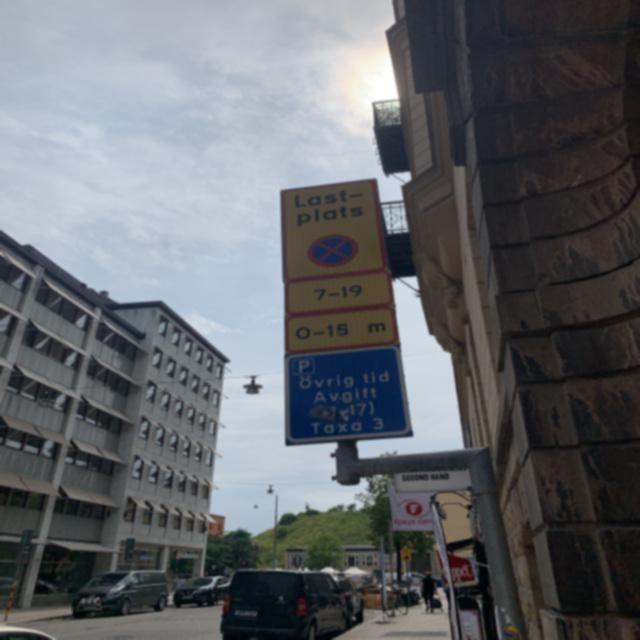lastplats: (275, 174, 393, 285)
